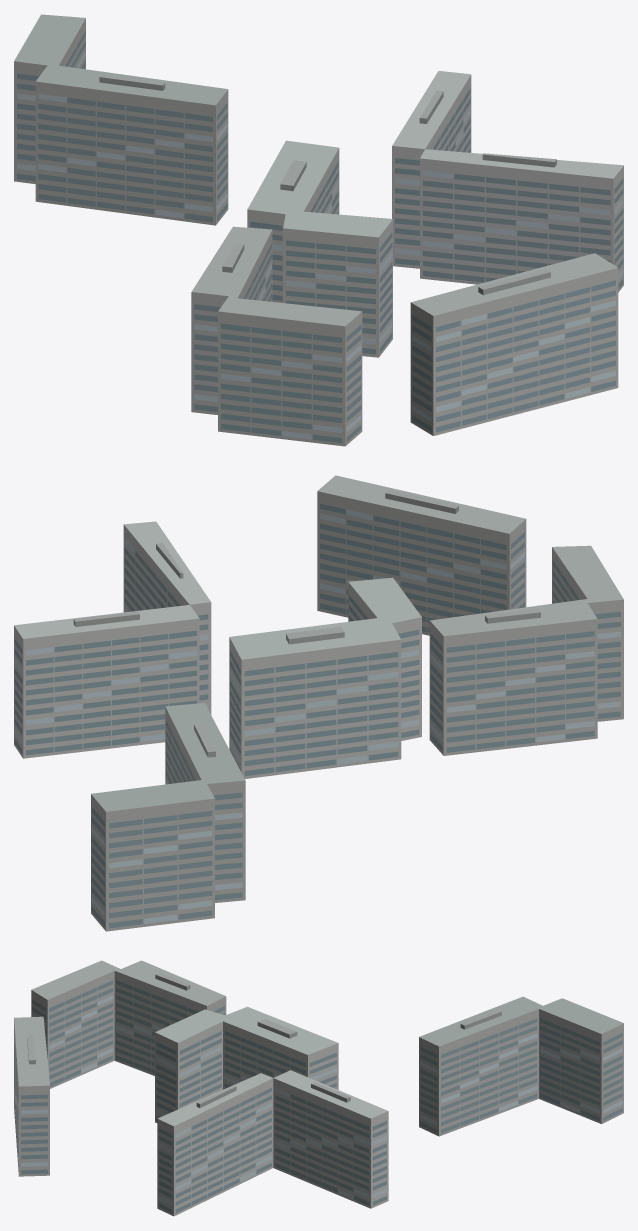
File: apt-a13984604.glb
3 views of the same model, one above another, from view 1: azimuth 30°, elevation 25°; view 2: azimuth 150°, elevation 25°; view 3: azimuth 270°, elevation 25° (orthographic). The views are drawn at different scales.
Visible parts, largest first — view 1: apt-a13984604; view 2: apt-a13984604; view 3: apt-a13984604.
Part boxes in pixels (x1,y1,x2,y2): apt-a13984604: [14, 14, 623, 446]; apt-a13984604: [14, 475, 623, 931]; apt-a13984604: [14, 960, 623, 1216].
Bounding box in the file's own units: 145 × 38.25 × 225.
